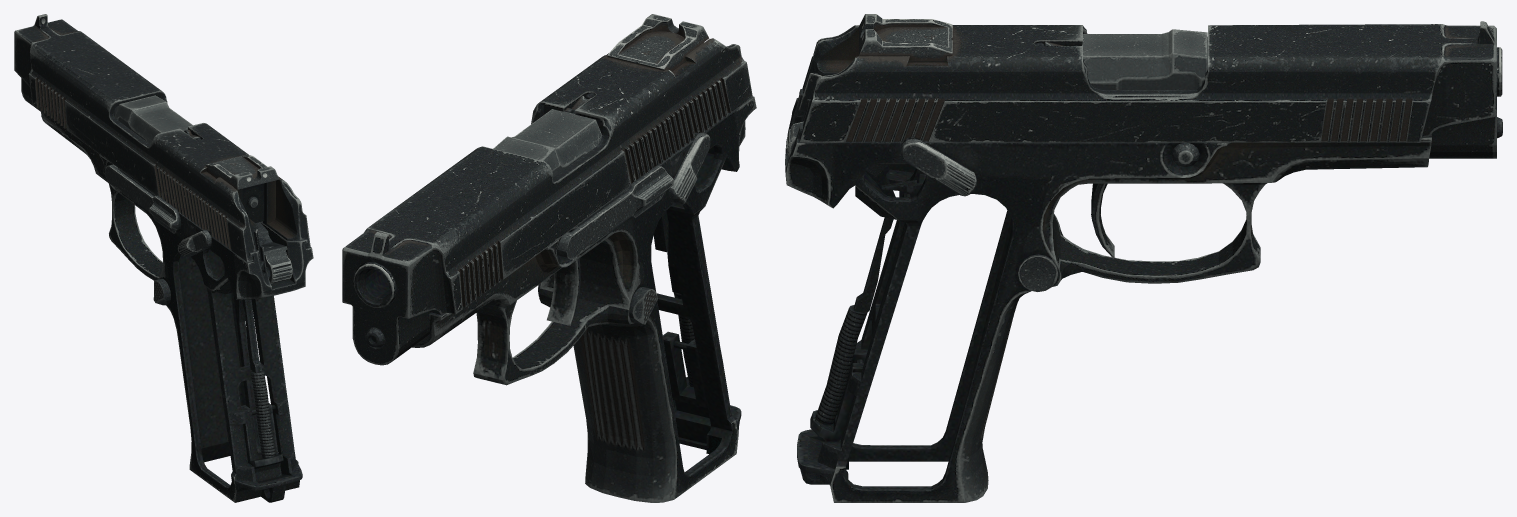
3 renders of one model, left to right at view 1: azimuth 30°, elevation 25°; view 2: azimuth 150°, elevation 25°; view 3: azimuth 270°, elevation 25°, orthographic. The views are drawn at different scales.
Visible parts, largest first — view 1: TW_576a581d2459771e7b1bc4f1_PZ_Import; view 2: TW_576a581d2459771e7b1bc4f1_PZ_Import; view 3: TW_576a581d2459771e7b1bc4f1_PZ_Import.
Boxes of the visible parts, bbox=[...] form: TW_576a581d2459771e7b1bc4f1_PZ_Import: bbox=[14, 14, 313, 502]; TW_576a581d2459771e7b1bc4f1_PZ_Import: bbox=[342, 14, 756, 502]; TW_576a581d2459771e7b1bc4f1_PZ_Import: bbox=[785, 14, 1502, 502].
Size of the model in its own units: 0.0221 by 0.1143 by 0.0801.
Materials: 1 (1 with a texture image).
